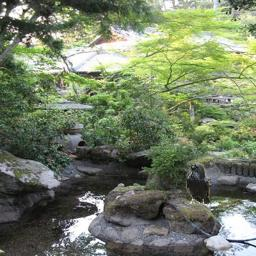Crow: (186, 163, 210, 205)
